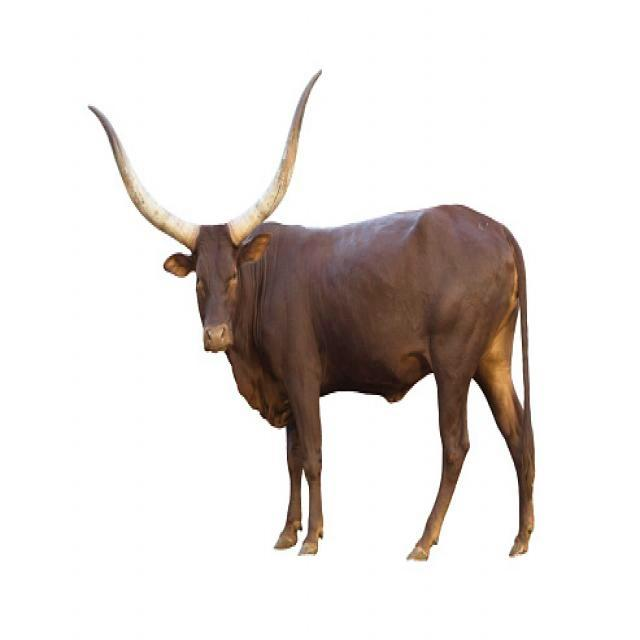cow: (89, 71, 535, 559)
